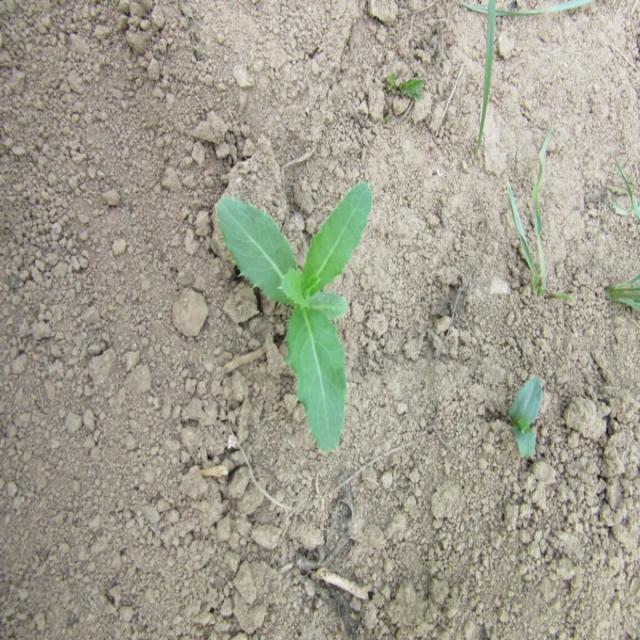cs: (211, 178, 374, 461)
